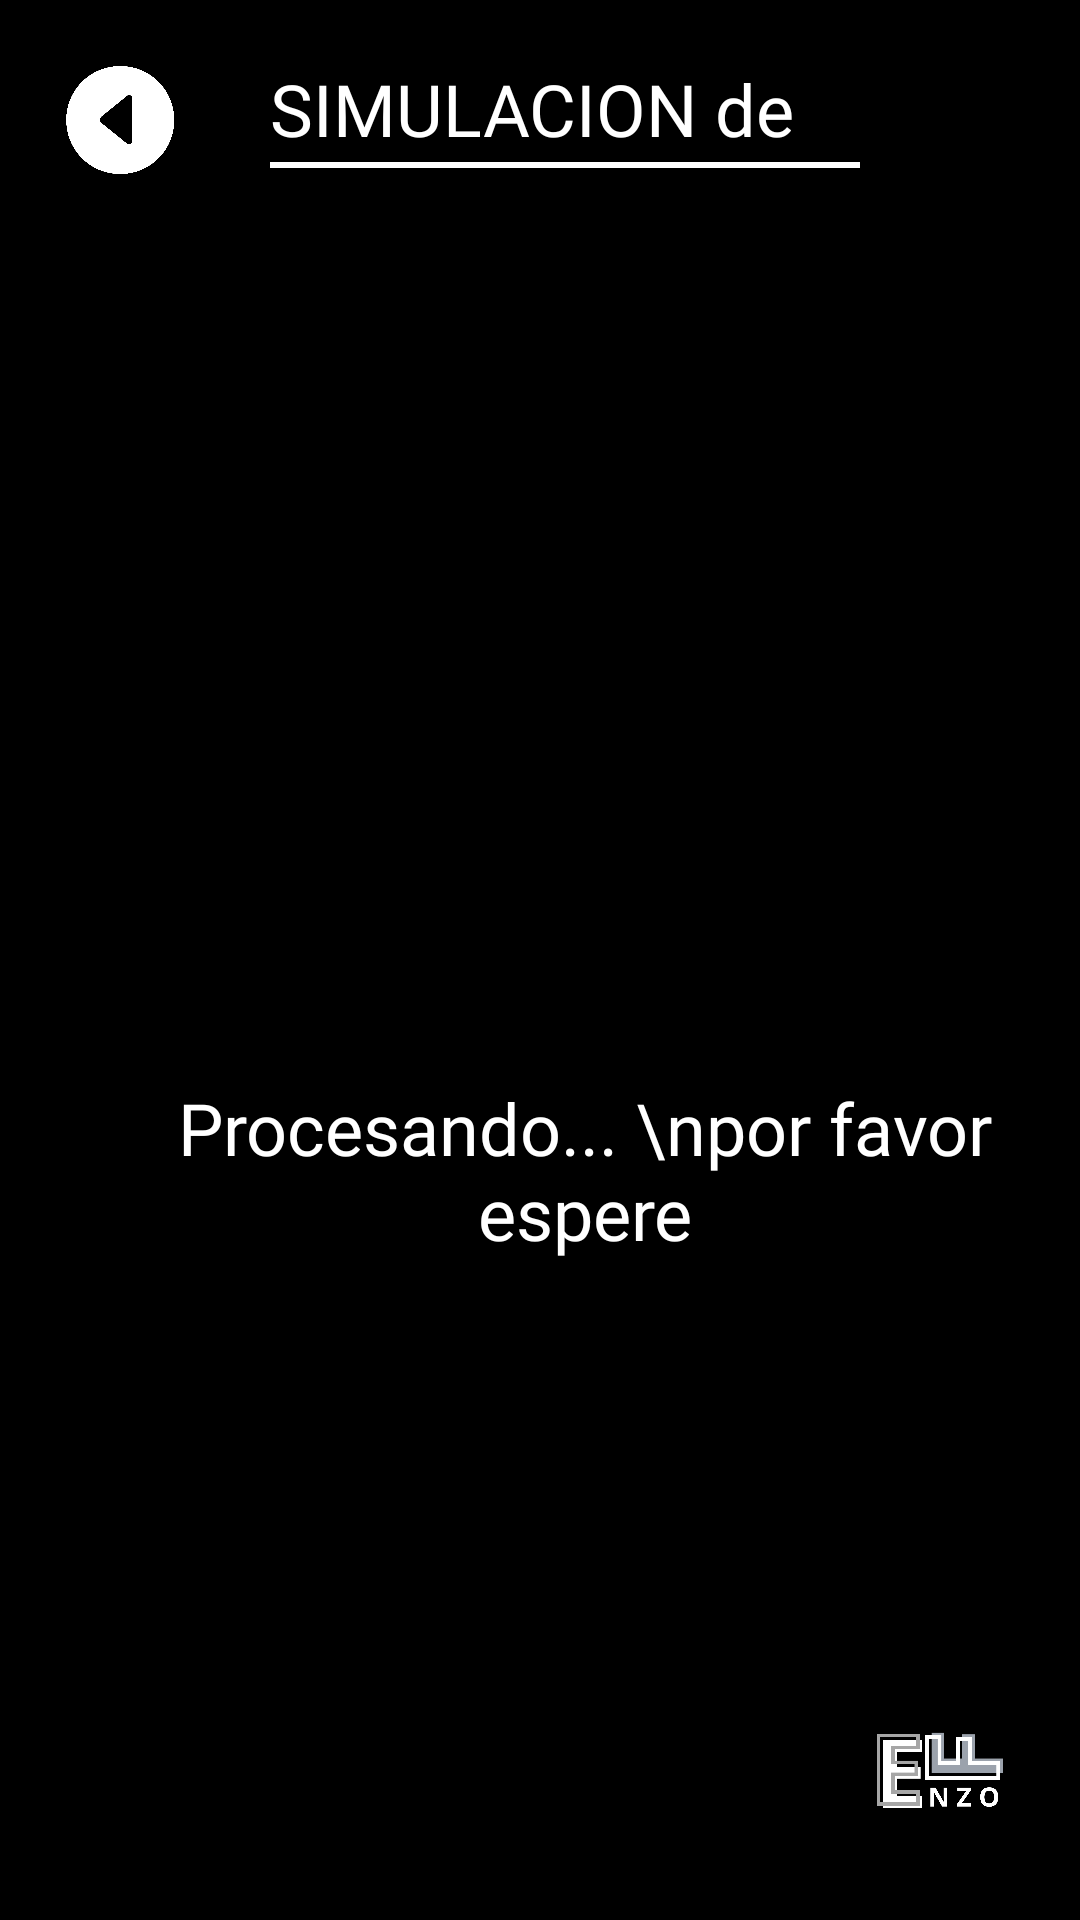

Named icons in this screenshot (1080 x 1920) and their centers, (x,y):
Boton atras: (120,120)
